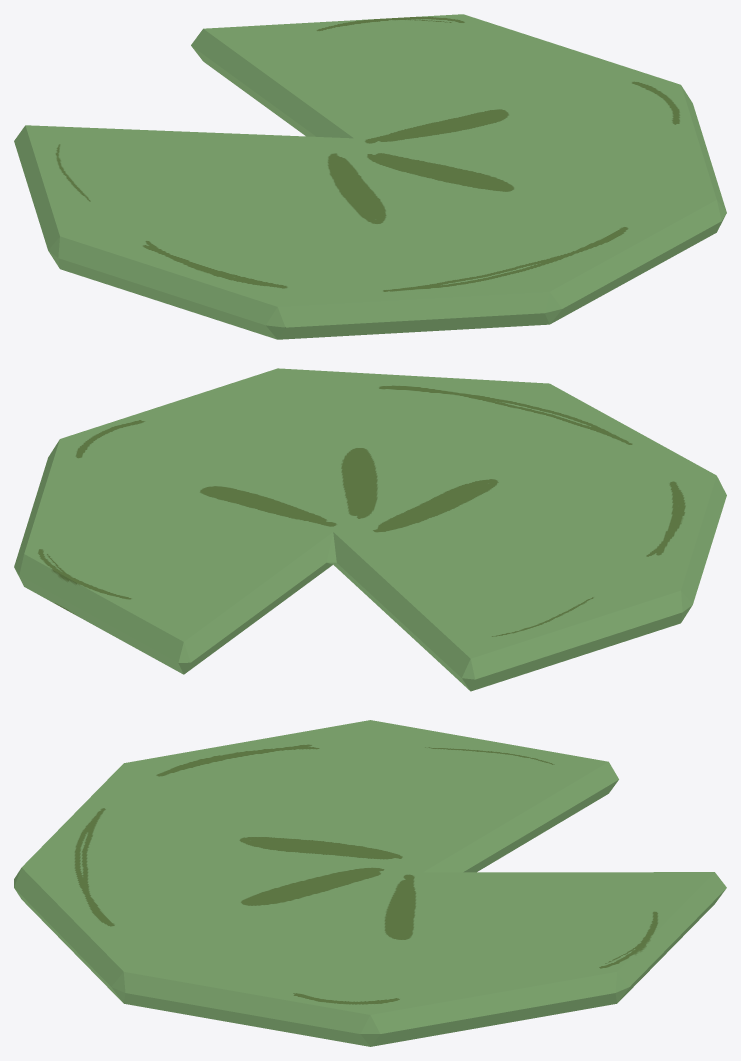
File: lilypad.glb
3 views of the same model, one above another, from view 1: azimuth 30°, elevation 25°; view 2: azimuth 150°, elevation 25°; view 3: azimuth 270°, elevation 25° (orthographic). The views are drawn at different scales.
Parts seen in each view (by area): view 1: lilypad; view 2: lilypad; view 3: lilypad.
Boxes of the visible parts, x1,y1,x2,y2 form: lilypad: (14, 14, 726, 339); lilypad: (14, 368, 726, 691); lilypad: (14, 720, 726, 1046).
Bounding box in the file's own units: 4.74 × 0.2349 × 4.74.
1 material, 1 textured.
